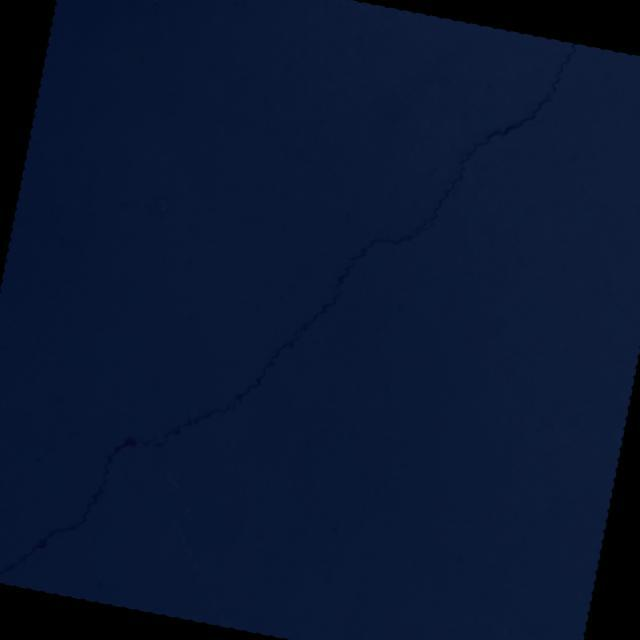crack: (150, 0, 577, 514), (0, 403, 163, 608)
